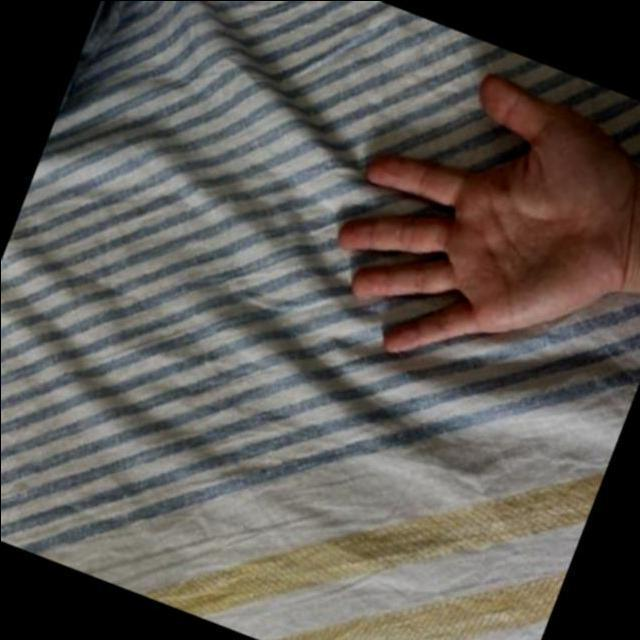hand: (290, 12, 640, 436)
